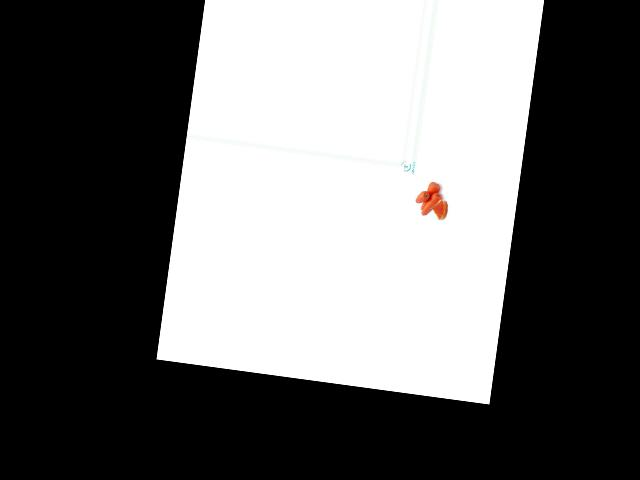carrot: (419, 190, 441, 218)
